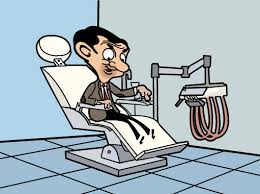mrbean: (73, 25, 156, 145)
